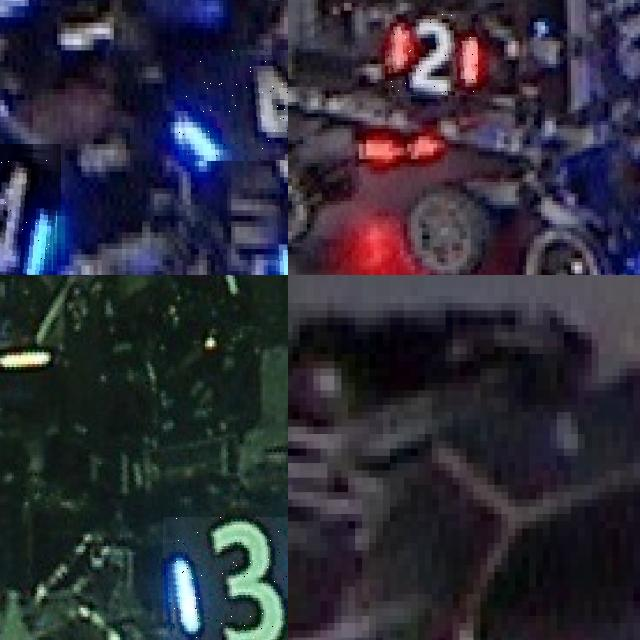B3: (163, 517, 288, 640)
B4: (174, 50, 288, 160), (0, 144, 61, 275)
R2: (385, 15, 478, 99)
